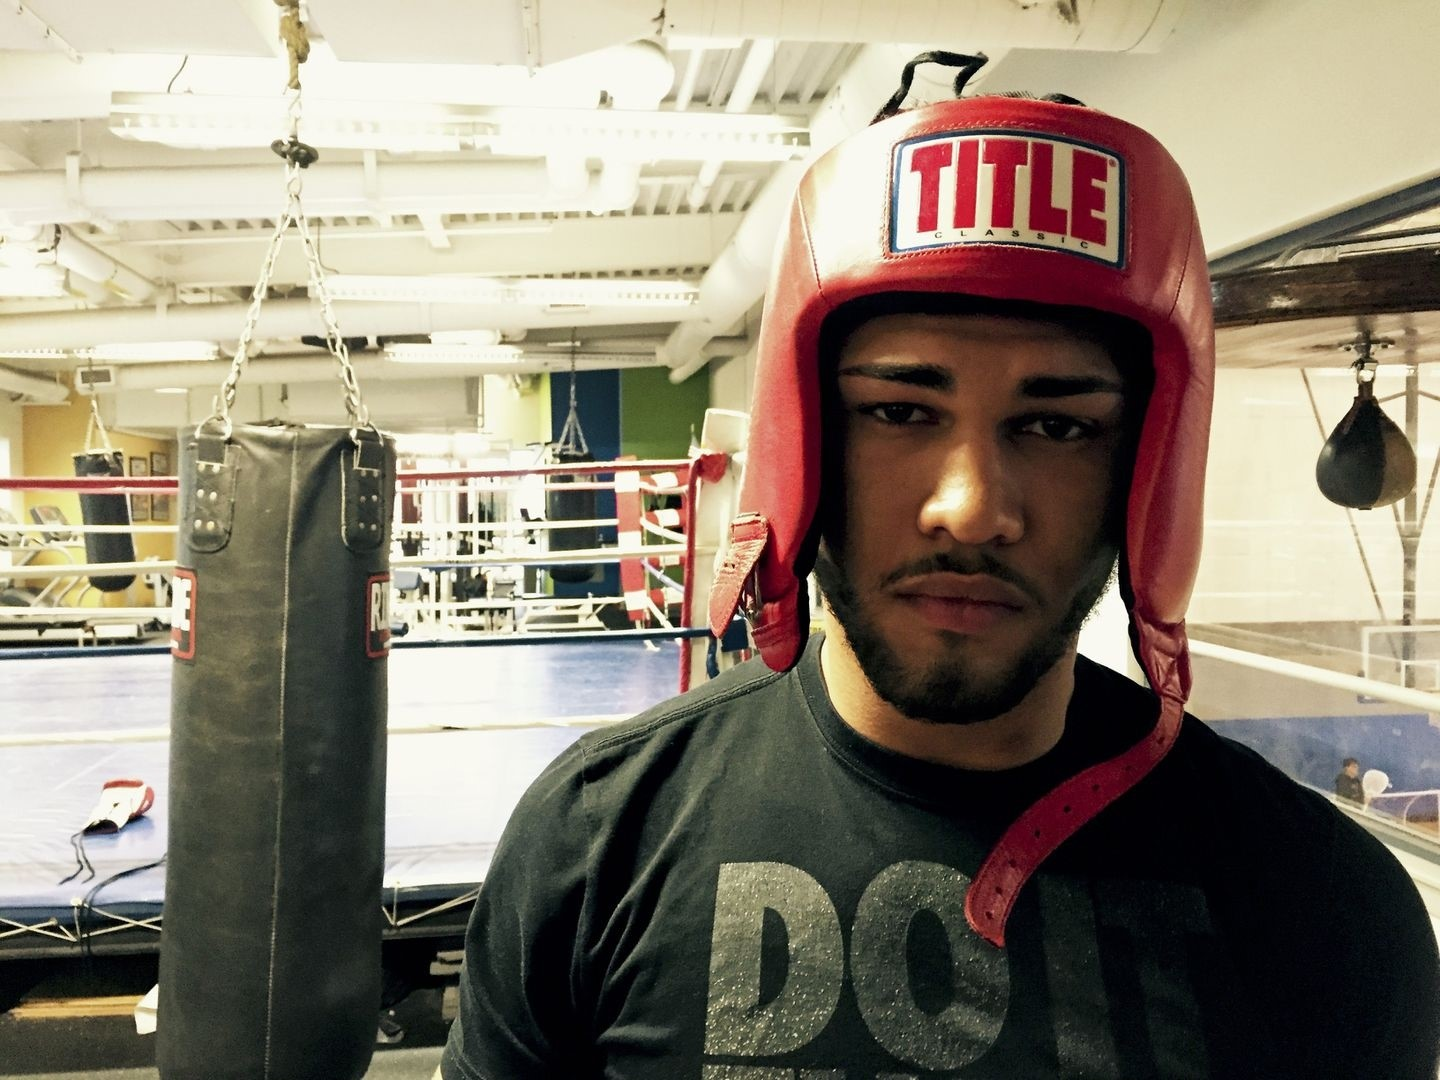face_no_mask: (794, 243, 1153, 735)
